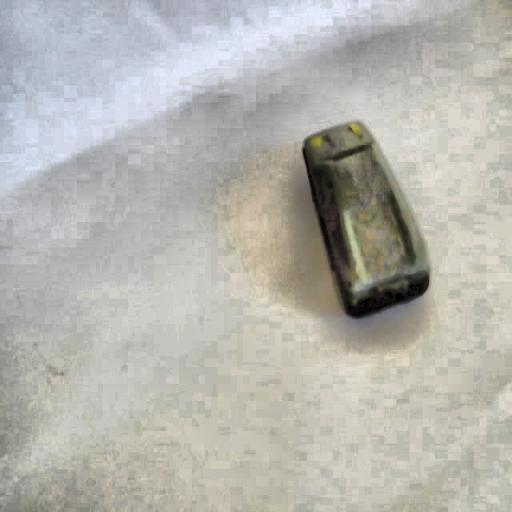normal_car: (298, 116, 432, 322)
